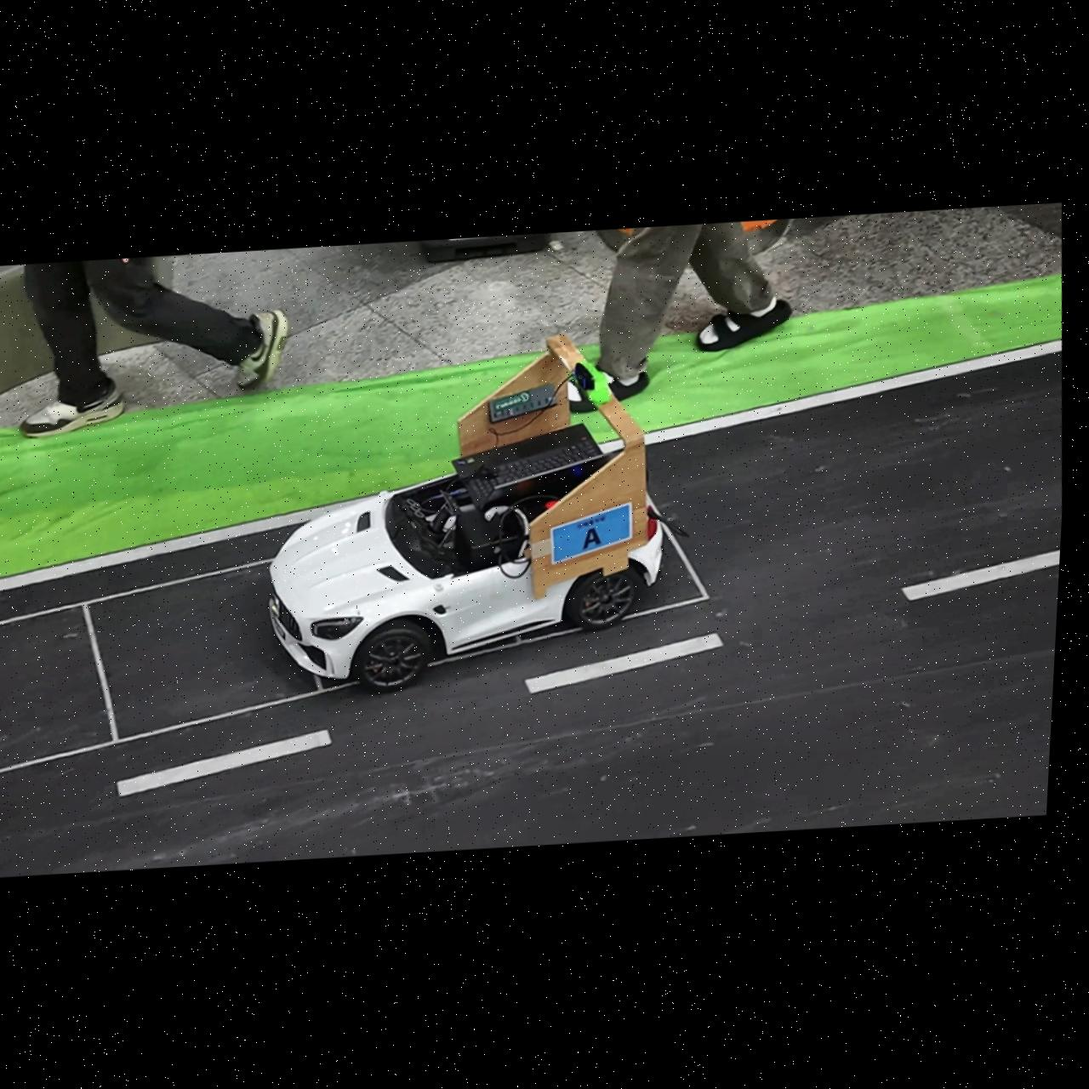broken_line: (116, 728, 332, 796), (523, 632, 724, 694), (900, 550, 1060, 600)
